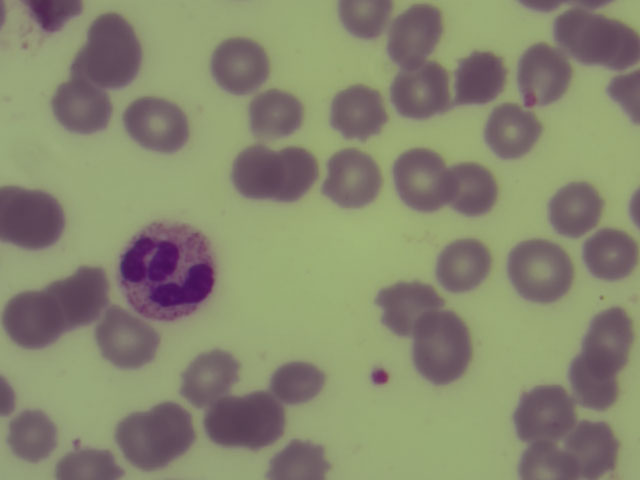Platelets: (371, 368, 388, 384)
RBC: (409, 309, 482, 383), (552, 1, 637, 61), (78, 14, 144, 83), (128, 97, 195, 159), (507, 45, 574, 107), (450, 45, 517, 107), (391, 61, 458, 123), (479, 105, 546, 167), (440, 157, 507, 219), (394, 147, 461, 209), (322, 145, 389, 207), (242, 83, 309, 145), (328, 80, 395, 142), (380, 4, 447, 66), (204, 33, 271, 95), (47, 266, 114, 328), (2, 287, 69, 349), (52, 83, 119, 145), (261, 143, 328, 205), (538, 178, 605, 240), (126, 95, 193, 157), (505, 239, 572, 301), (426, 235, 493, 297), (175, 340, 242, 402), (92, 308, 159, 370), (513, 418, 580, 480), (563, 416, 630, 478), (504, 372, 571, 434), (141, 400, 208, 462), (1, 186, 67, 248), (375, 279, 443, 337), (3, 402, 61, 465), (582, 308, 634, 374), (113, 408, 167, 467), (198, 390, 251, 449), (230, 141, 282, 200), (568, 357, 622, 413), (581, 230, 640, 279), (265, 439, 332, 480), (241, 391, 290, 445), (56, 442, 123, 480), (605, 65, 640, 128), (271, 359, 320, 404), (330, 1, 388, 39), (18, 1, 85, 33), (514, 1, 583, 16), (628, 183, 640, 235)
WBC: (122, 226, 226, 322)
